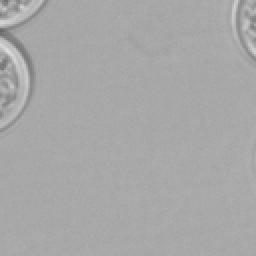picoshell: (0, 32, 32, 130), (230, 0, 254, 58)
